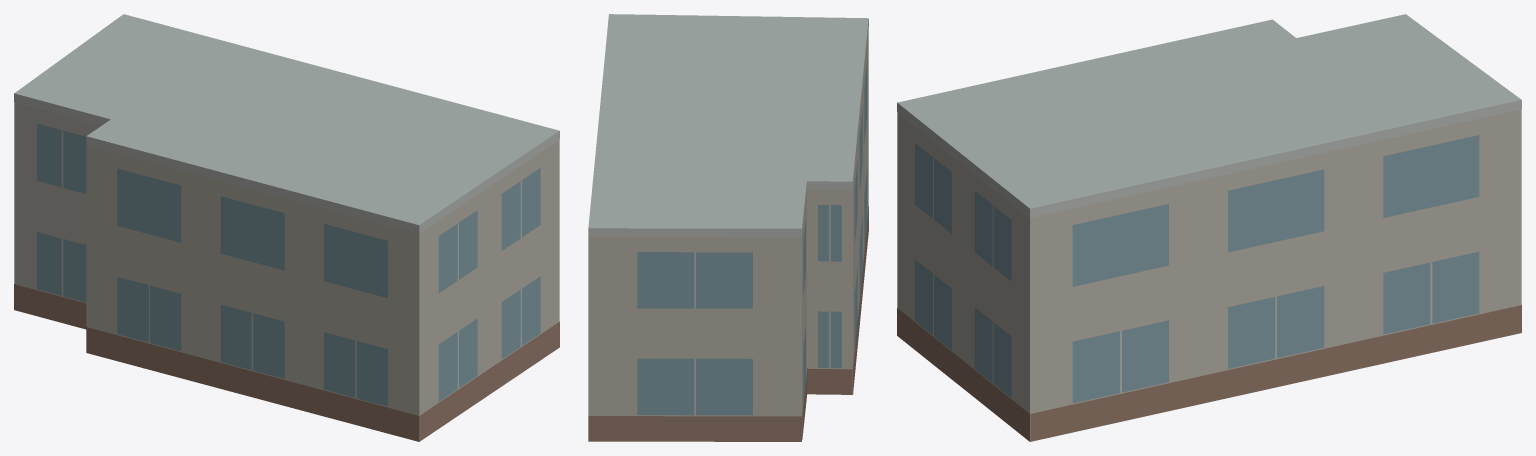
Rendered from survey-upis-32803314.glb.
The picture shows the model from 3 angles, left to right: view 1: azimuth 30°, elevation 25°; view 2: azimuth 150°, elevation 25°; view 3: azimuth 270°, elevation 25°; orthographic projection. The views are drawn at different scales.
Visible parts, largest first — view 1: survey-upis-32803314.tmp; view 2: survey-upis-32803314.tmp; view 3: survey-upis-32803314.tmp.
Boxes of the visible parts, x1,y1,x2,y2 form: survey-upis-32803314.tmp: (14, 14, 559, 441); survey-upis-32803314.tmp: (588, 14, 868, 441); survey-upis-32803314.tmp: (897, 14, 1521, 441).
Size of the model in its own units: 10.94 by 6.1 by 14.82.
